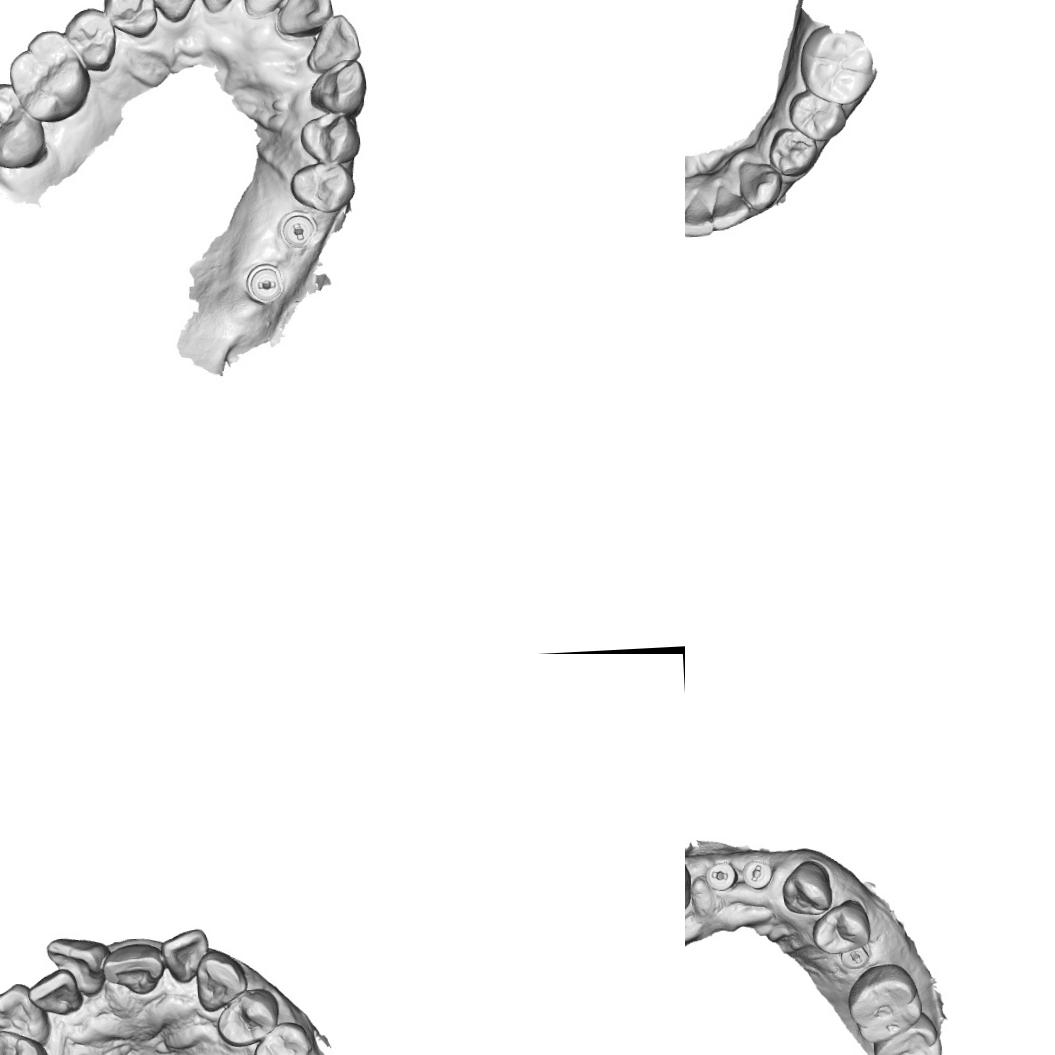canine: (307, 56, 368, 117), (193, 948, 249, 1012), (0, 979, 49, 1045), (780, 858, 832, 916), (736, 160, 784, 212), (143, 0, 202, 26)
implant_minus: (242, 260, 288, 303), (280, 210, 316, 250), (703, 859, 738, 892), (740, 856, 773, 890), (838, 944, 870, 970)
incisor: (44, 934, 113, 1000), (99, 940, 166, 997), (301, 12, 364, 72), (158, 926, 210, 984), (24, 966, 83, 1016), (272, 0, 335, 36), (708, 183, 752, 231), (685, 193, 713, 238), (238, 0, 302, 14), (195, 0, 247, 15)
molar: (4, 26, 95, 124), (796, 21, 878, 107), (844, 960, 923, 1046), (0, 77, 48, 172), (870, 1009, 943, 1055)
premolar: (62, 3, 118, 77), (214, 986, 280, 1048), (296, 110, 364, 165), (287, 160, 355, 213), (810, 898, 870, 955), (786, 88, 847, 143), (766, 126, 819, 178), (101, 0, 159, 41), (250, 1019, 312, 1055), (0, 1027, 50, 1055)
